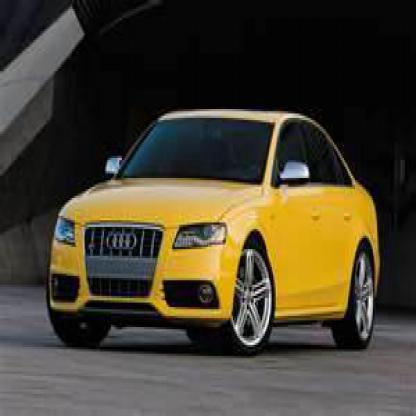Vehicle: (45, 112, 386, 370)
